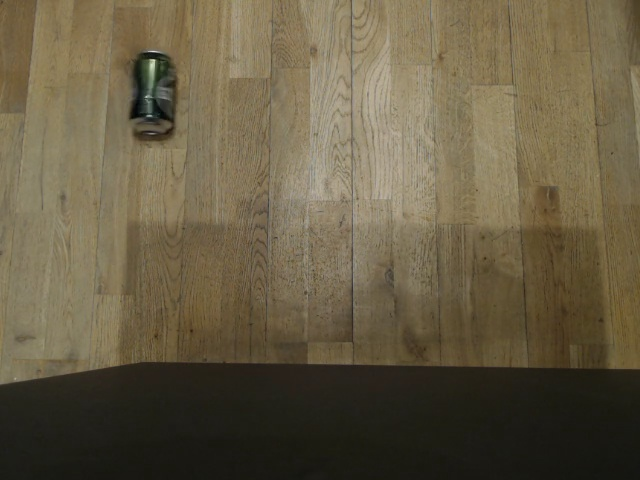beer: (125, 48, 178, 141)
